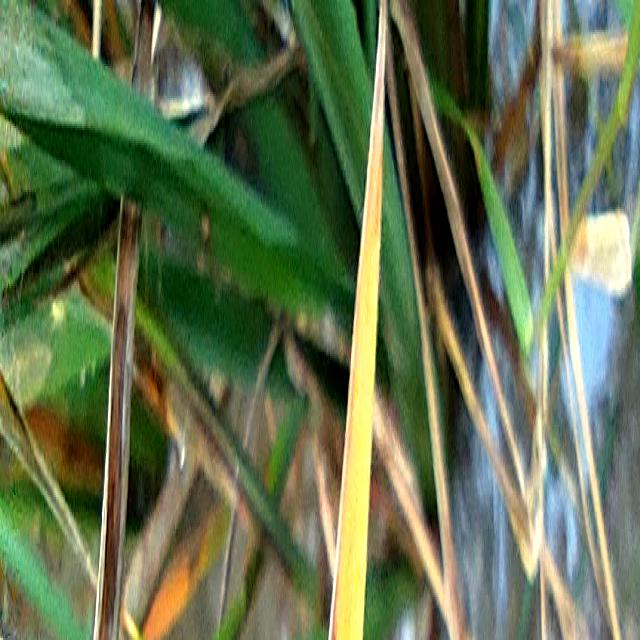LEAF BLAST: (328, 584, 337, 640)
